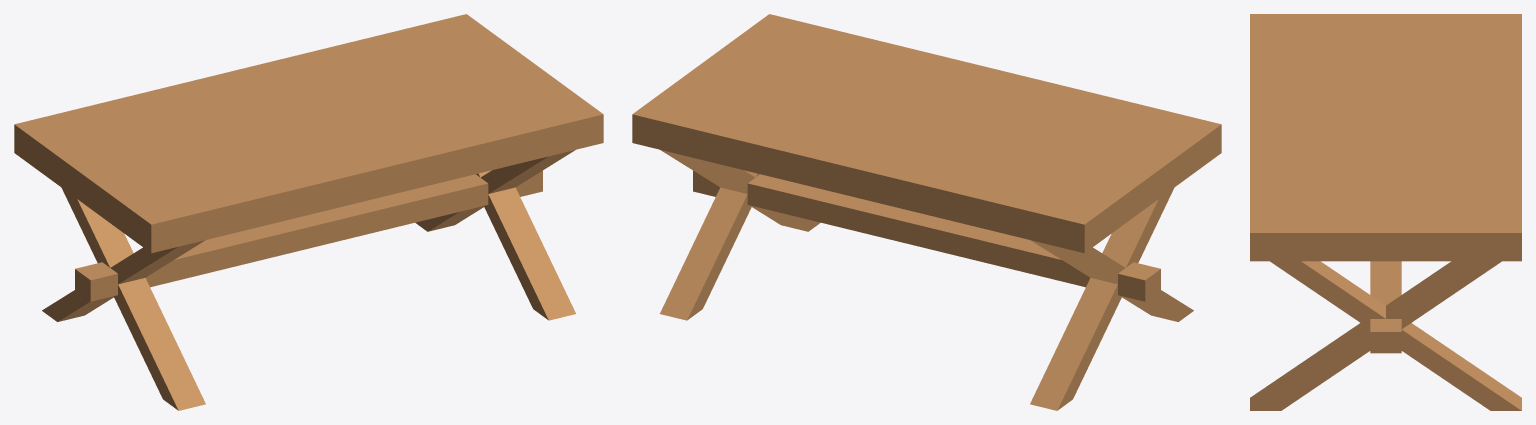
File: kitTableCross.glb
3 renders of one model, left to right at view 1: azimuth 30°, elevation 25°; view 2: azimuth 150°, elevation 25°; view 3: azimuth 270°, elevation 25°, orthographic.
Visible parts, largest first — view 1: kitTableCross_wood; view 2: kitTableCross_wood; view 3: kitTableCross_wood.
Part boxes in pixels (left/top/right/bottom): kitTableCross_wood: left=14, top=14, right=603, bottom=410; kitTableCross_wood: left=632, top=14, right=1221, bottom=410; kitTableCross_wood: left=1250, top=14, right=1521, bottom=410.
Size of the model in its own units: 1.7 by 0.6948 by 0.8947.
